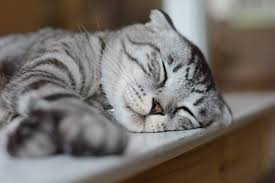cat: (101, 12, 246, 143)
